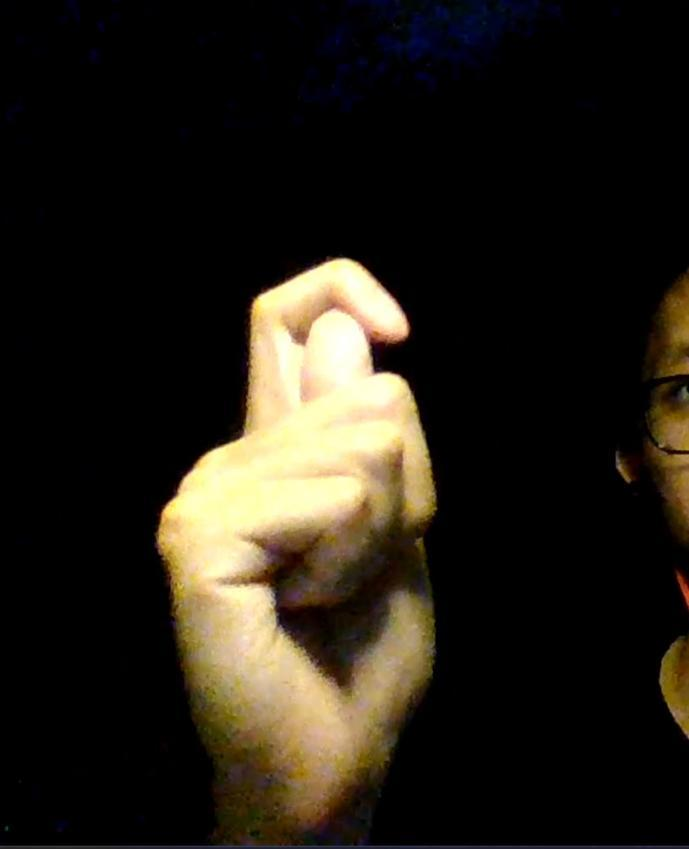t: (154, 259, 457, 841)
